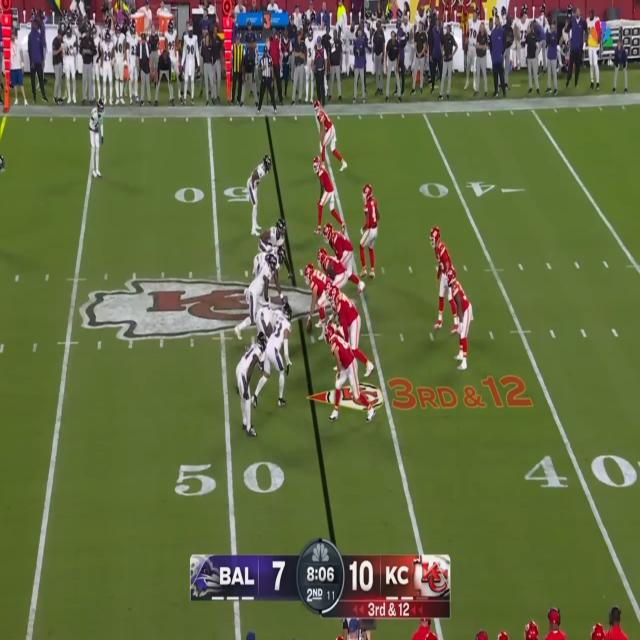Ball: (306, 319, 313, 333)
